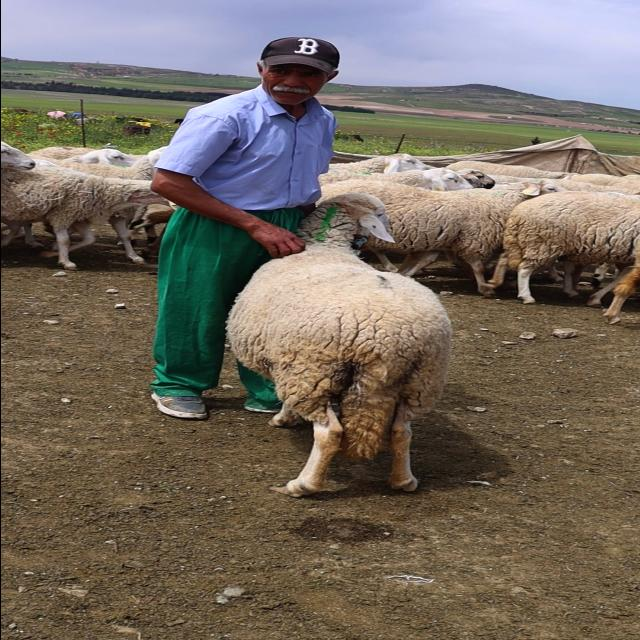Score_4: (225, 193, 451, 497)
